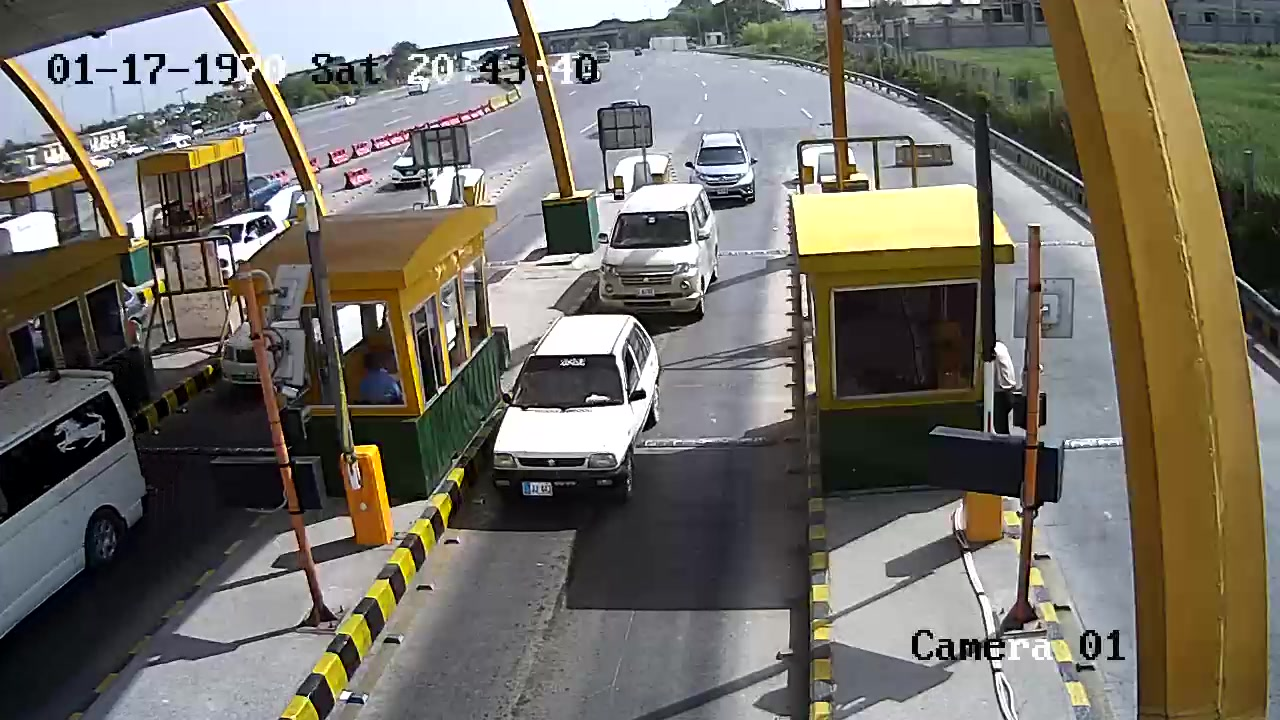F1: (485, 310, 671, 510)
